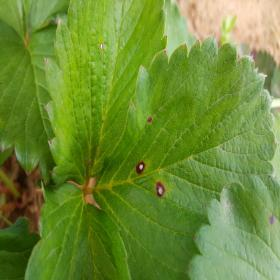Leaf Spot: (92, 33, 279, 279), (43, 0, 168, 188), (188, 174, 279, 279)
